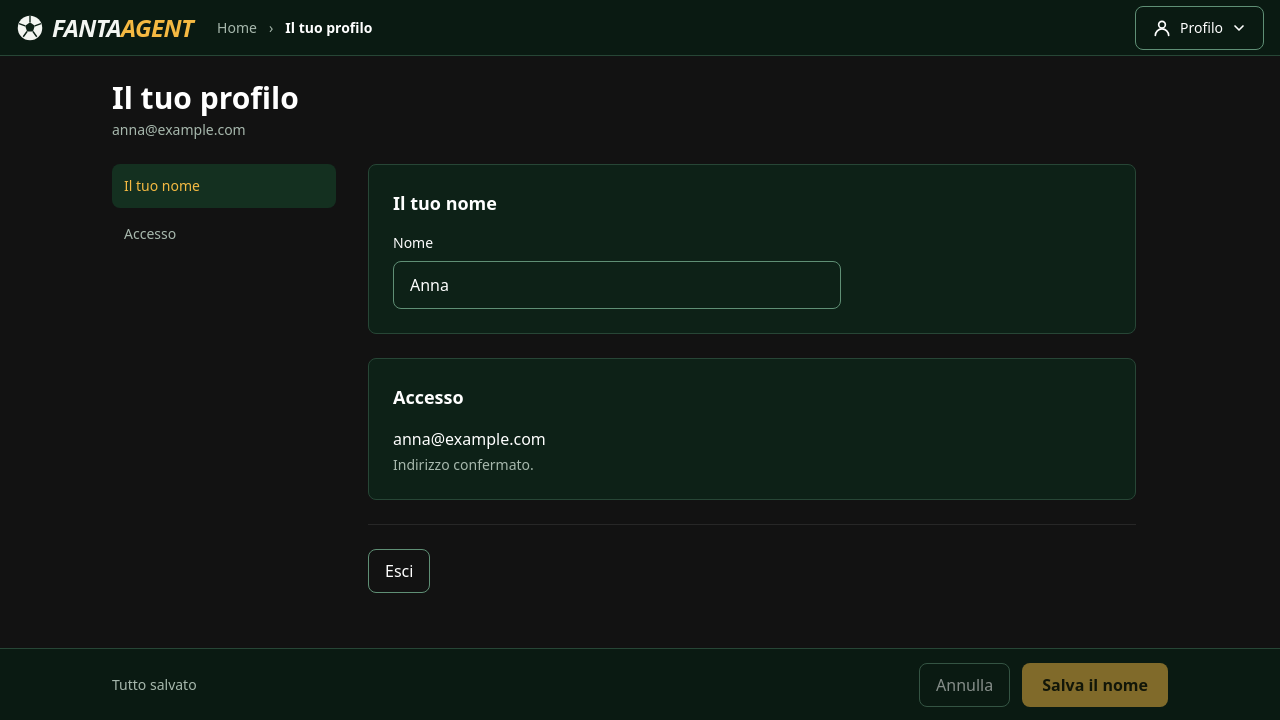
Scenario: ProfileRoute › il nome si salva dalla barra
This screenshot has width=1280, height=720.
Check: the button "Salva il nome" is disabled, box left=1022, top=662, right=1168, bottom=706
Step 1. Type "lisa" into the field labelled "Nome" → [617, 285], box left=393, top=261, right=841, bottom=309
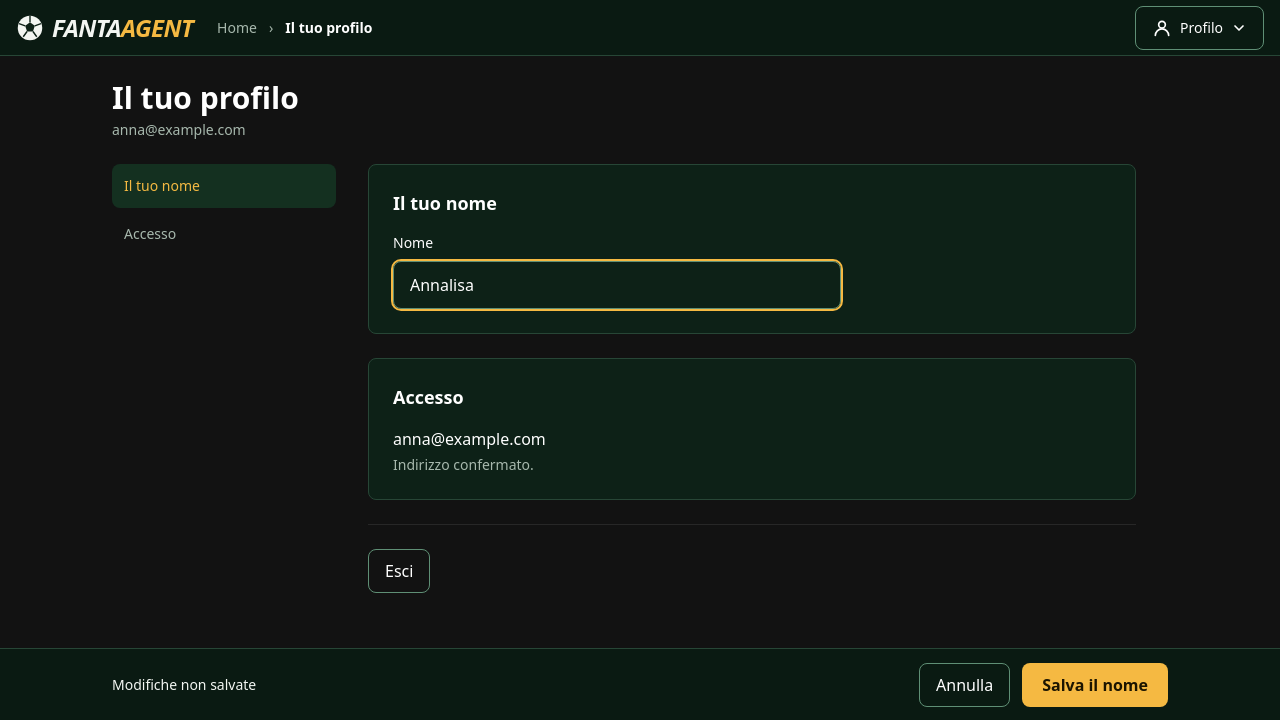
Check: the text "Modifiche non salvate" is shown, box left=112, top=675, right=256, bottom=694
Step 2. Click the button "Salva il nome" → [1095, 684], box left=1022, top=662, right=1168, bottom=706
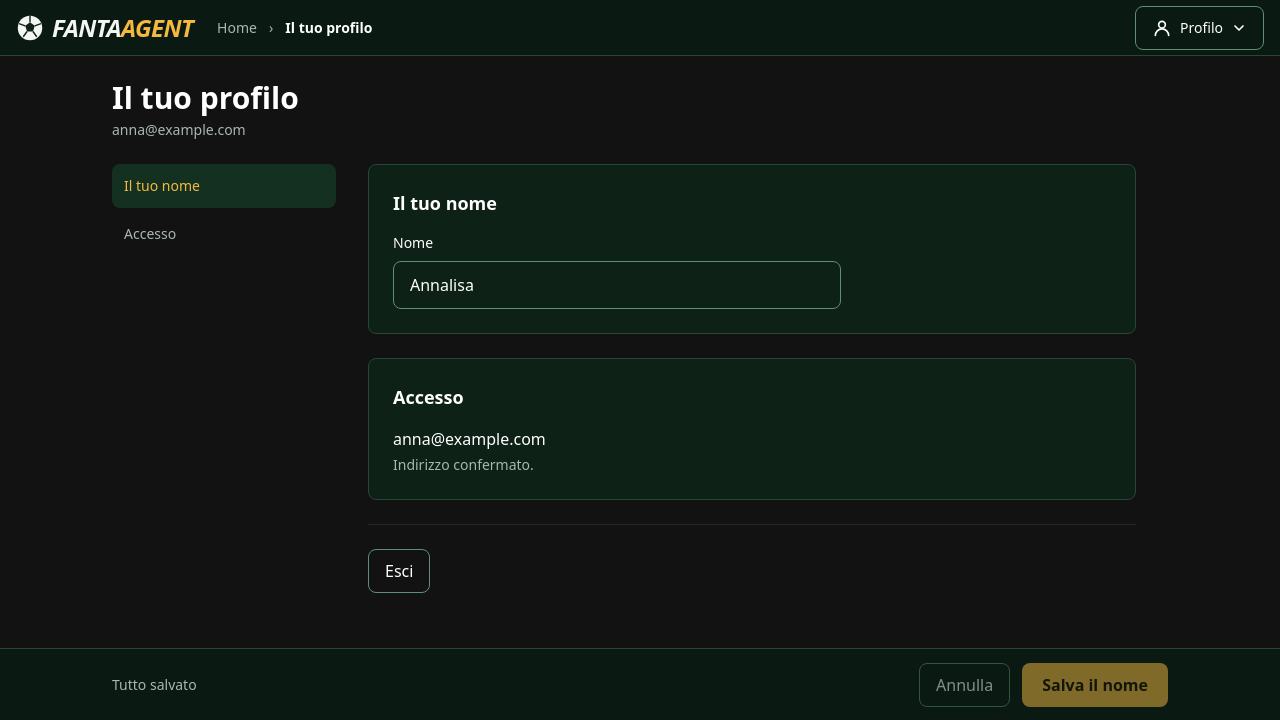
Check: the field labelled "Nome" holds "Annalisa", box left=393, top=261, right=841, bottom=309
Check: the text "Tutto salvato" is shown, box left=112, top=675, right=197, bottom=694
